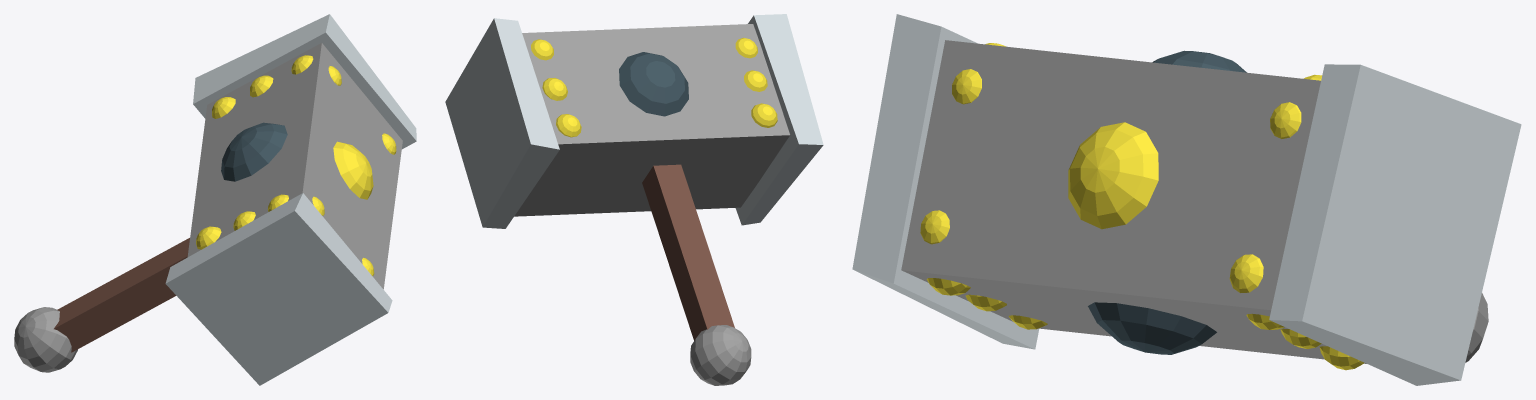
The model's file is Hammer.fbx.
The picture shows the model from 3 angles, left to right: view 1: azimuth 30°, elevation 25°; view 2: azimuth 150°, elevation 25°; view 3: azimuth 270°, elevation 25°; orthographic projection. The views are drawn at different scales.
Visible parts, largest first — view 1: mesh_660214696, mesh_2078617504, mesh_2107233124, mesh_668613029, mesh_646596516, mesh_635710676, mesh_1686446162, mesh_1668708728, mesh_1799752714, mesh_2058941067; view 2: mesh_660214696, mesh_2107233124, mesh_668613029, mesh_2078617504, mesh_635710676, mesh_646596516, mesh_1668708728, mesh_1799752714, mesh_2058941067, mesh_980199381, mesh_2093651957, mesh_1276263203; view 3: mesh_660214696, mesh_2107233124, mesh_2078617504, mesh_1686446162, mesh_35770095, mesh_635710676, mesh_601465797, mesh_262855846, mesh_1995521992, mesh_99851310, mesh_646596516, mesh_402138687.
Boxes of the visible parts, box(x1,y1,x2,y2) form: mesh_660214696: box(187, 43, 402, 289); mesh_2078617504: box(165, 193, 392, 385); mesh_2107233124: box(193, 14, 416, 149); mesh_668613029: box(54, 238, 189, 352); mesh_646596516: box(14, 307, 77, 372); mesh_635710676: box(221, 122, 287, 181); mesh_1686446162: box(333, 141, 373, 199); mesh_1668708728: box(196, 226, 221, 249); mesh_1799752714: box(212, 97, 235, 118); mesh_2058941067: box(250, 75, 273, 97); mesh_660214696: box(514, 24, 789, 216); mesh_2107233124: box(445, 18, 559, 228); mesh_668613029: box(642, 164, 734, 340); mesh_2078617504: box(735, 14, 823, 225); mesh_635710676: box(619, 52, 688, 116); mesh_646596516: box(690, 325, 751, 385); mesh_1668708728: box(751, 103, 777, 127); mesh_1799752714: box(556, 114, 581, 137); mesh_2058941067: box(542, 78, 567, 100); mesh_980199381: box(744, 70, 767, 91); mesh_2093651957: box(531, 39, 553, 60); mesh_1276263203: box(735, 37, 757, 58); mesh_660214696: box(901, 40, 1366, 363); mesh_2107233124: box(1269, 64, 1521, 385); mesh_2078617504: box(852, 14, 1039, 349); mesh_1686446162: box(1068, 122, 1158, 229); mesh_35770095: box(1088, 302, 1216, 354); mesh_635710676: box(1152, 50, 1246, 72); mesh_601465797: box(1229, 254, 1263, 292); mesh_262855846: box(1270, 102, 1301, 138); mesh_1995521992: box(952, 69, 981, 104); mesh_99851310: box(920, 210, 949, 244); mesh_646596516: box(1465, 293, 1488, 362); mesh_402138687: box(1319, 346, 1364, 370).
Bounding box in the file's own units: 25.07 × 20.47 × 23.96.
